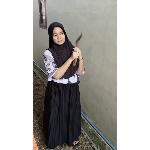Kapak: (70, 30, 84, 68)
